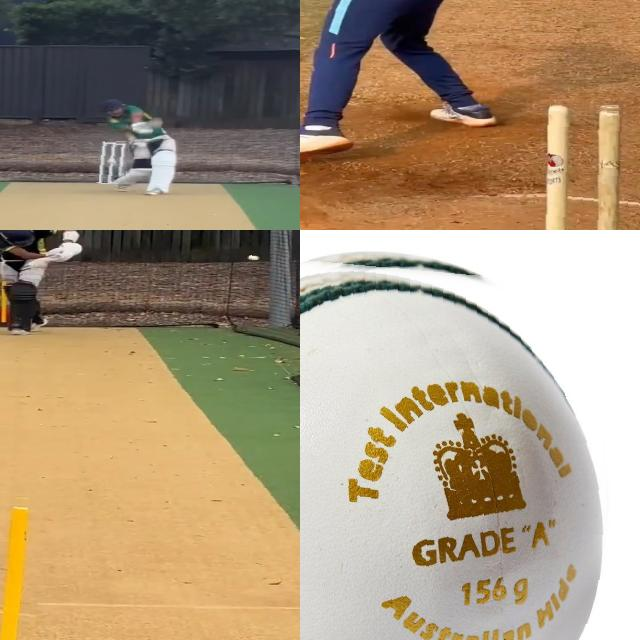Cricket ball: (300, 245, 618, 640), (106, 156, 122, 164), (246, 252, 260, 260)
Stumps: (545, 102, 640, 230), (0, 486, 48, 640), (100, 140, 130, 184)
